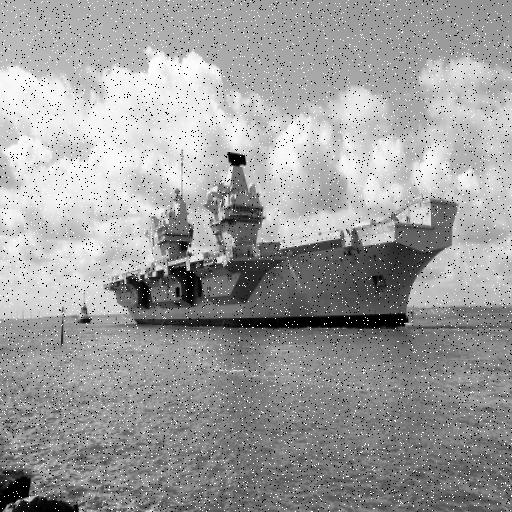Portanaves: (102, 116, 462, 334)
